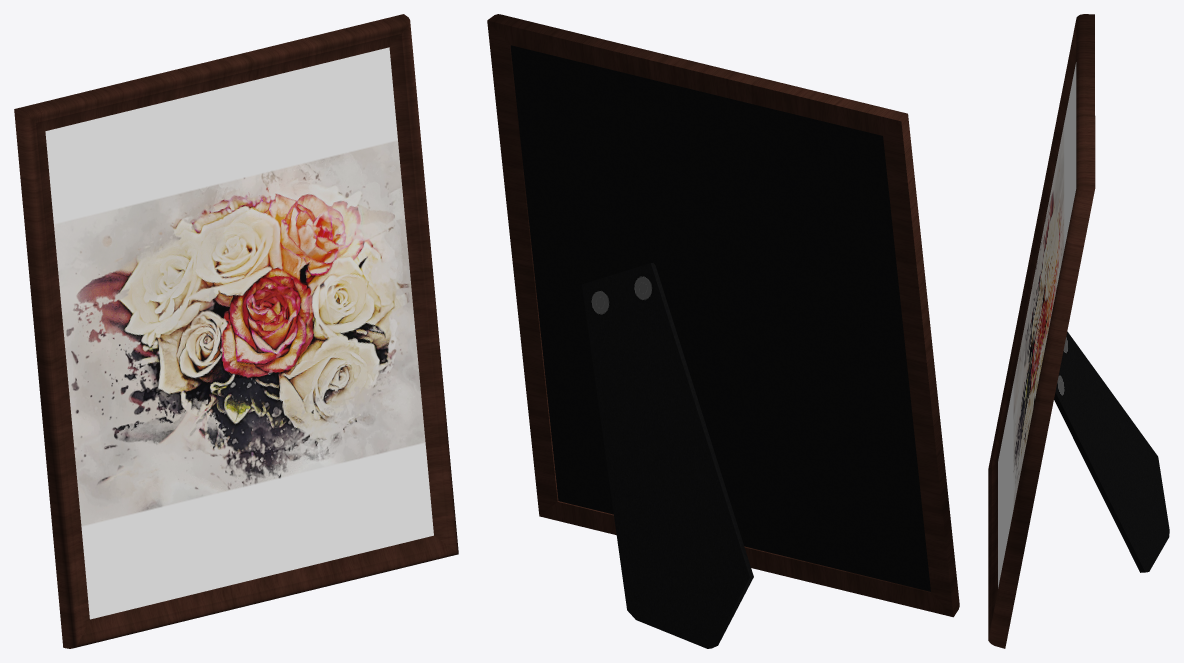
File: PhotoFrame01_3B.FBX
3 views of the same model, side by side, from view 1: azimuth 30°, elevation 25°; view 2: azimuth 150°, elevation 25°; view 3: azimuth 270°, elevation 25° (orthographic). The views are drawn at different scales.
Parts seen in each view (by area): view 1: PhotoFrame01_3B; view 2: PhotoFrame01_3B; view 3: PhotoFrame01_3B.
Boxes of the visible parts, box(x1,y1,x2,y2) form: PhotoFrame01_3B: box(14, 14, 458, 648); PhotoFrame01_3B: box(487, 14, 959, 648); PhotoFrame01_3B: box(988, 14, 1169, 648).
Bounding box in the file's own units: 0.2673 × 0.3301 × 0.1176.
